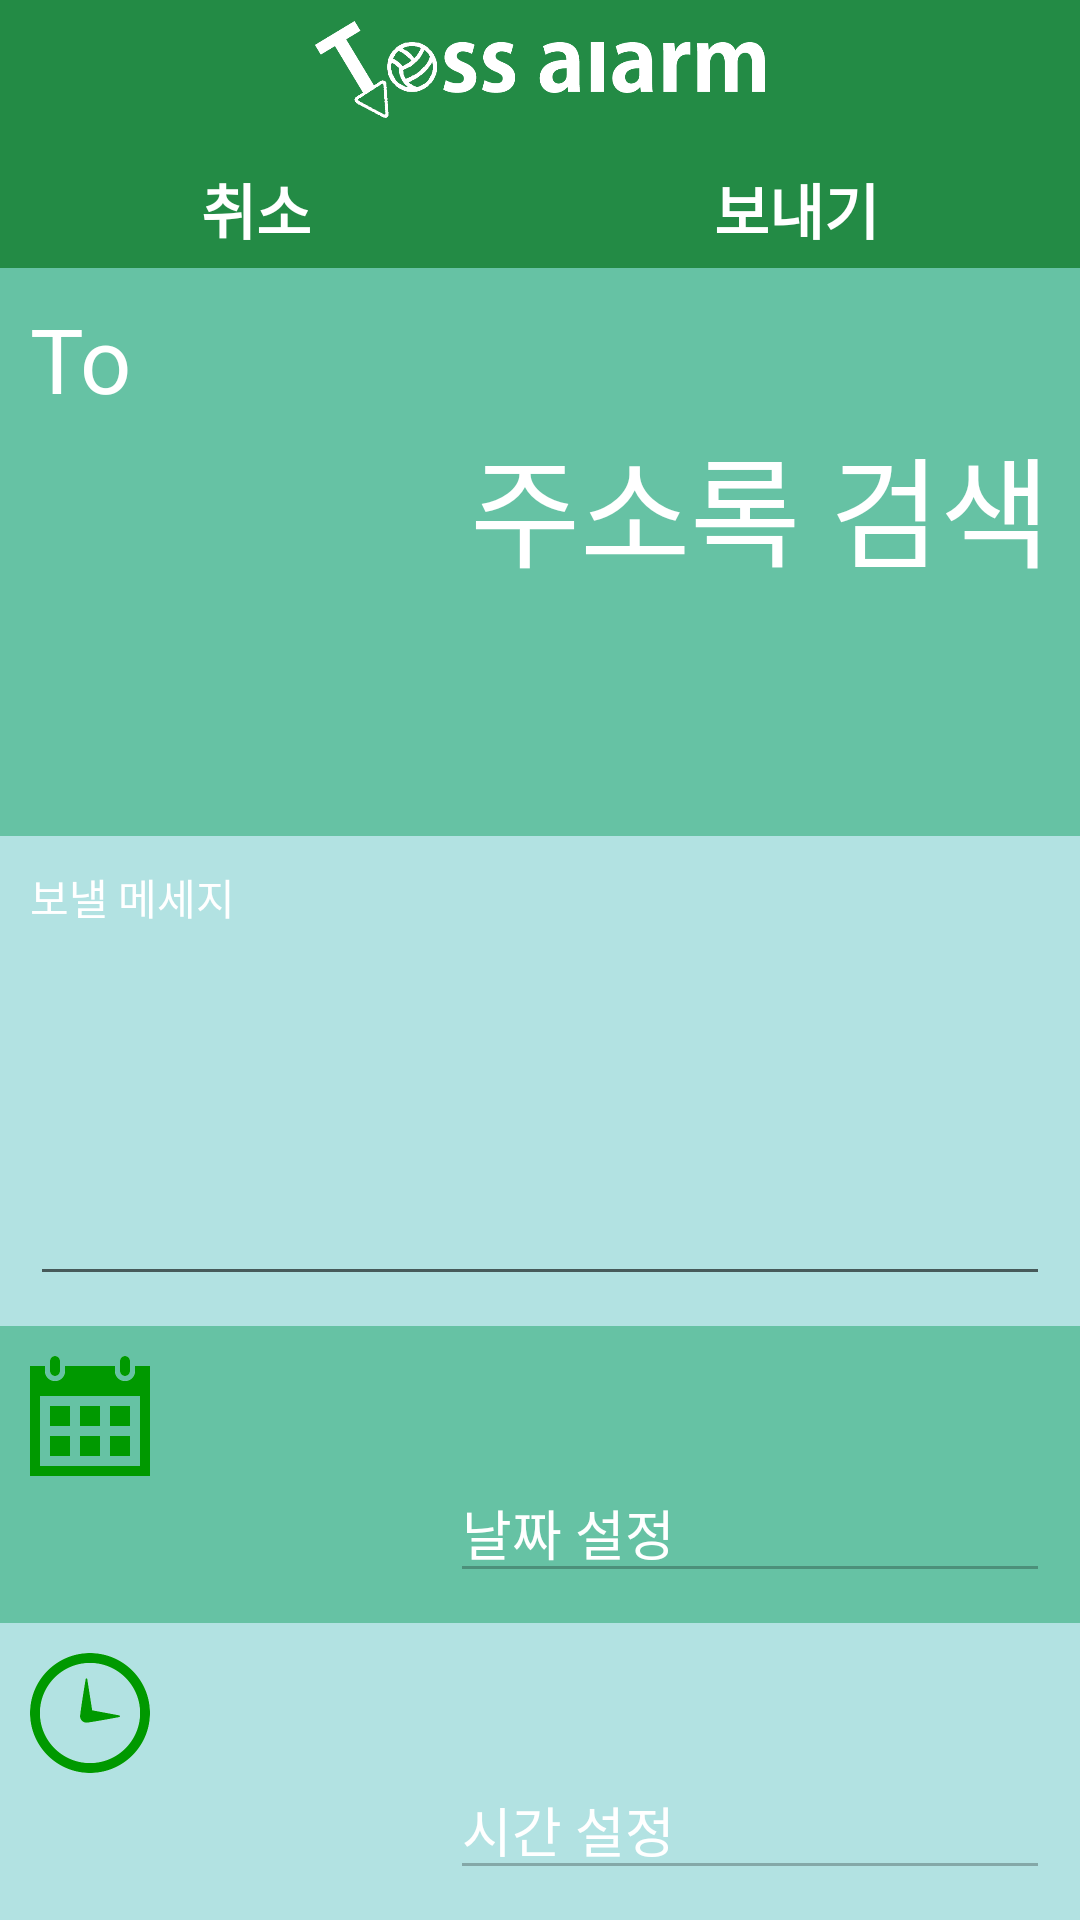

Where to tap for icons on this 1080 x 1920 app screen, as (x,y):
set date: (90,1416)
set time: (90,1713)
